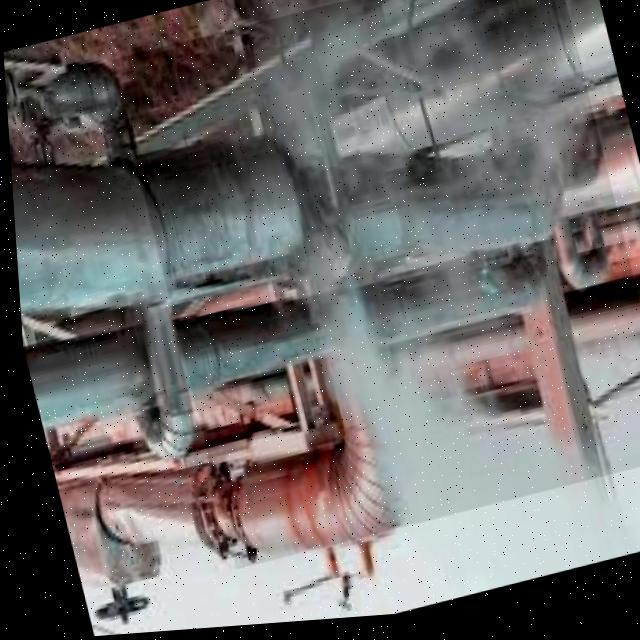corrosion: (111, 0, 640, 569)
